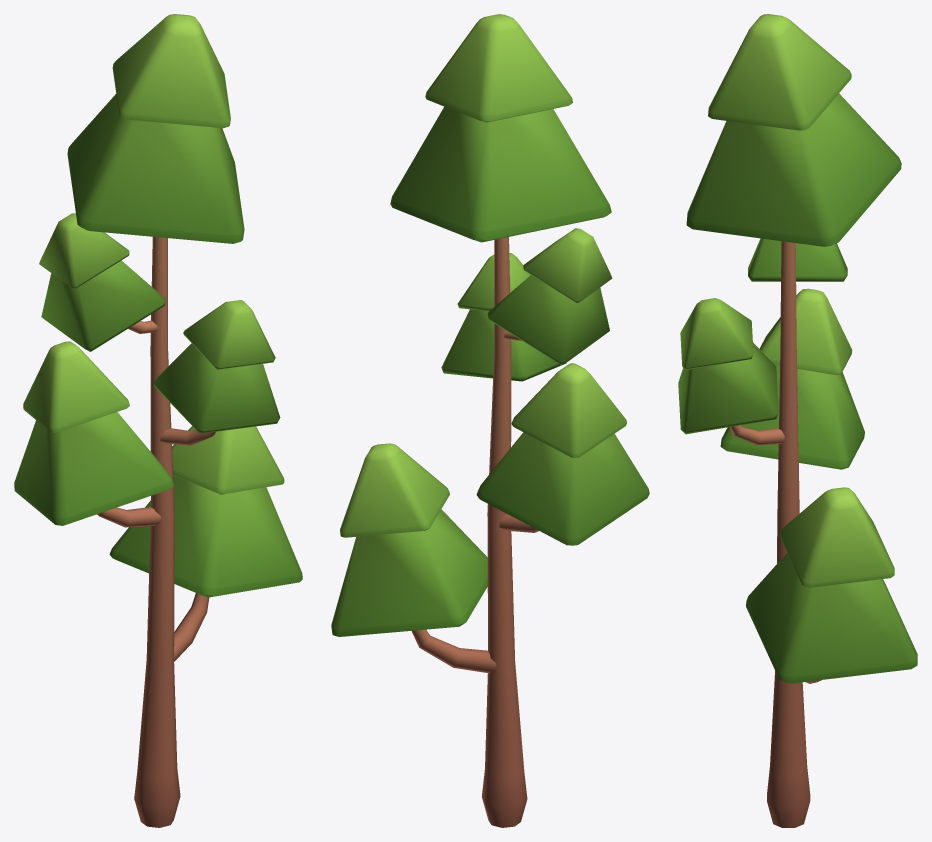
The model's file is Tree_4_C_Color3.fbx.
The picture shows the model from 3 angles, left to right: view 1: azimuth 30°, elevation 25°; view 2: azimuth 150°, elevation 25°; view 3: azimuth 270°, elevation 25°; orthographic projection. The views are drawn at different scales.
Parts seen in each view (by area): view 1: Tree_4_C_Color3; view 2: Tree_4_C_Color3; view 3: Tree_4_C_Color3.
Part boxes in pixels (x1,y1,x2,y2): Tree_4_C_Color3: [14, 14, 302, 827]; Tree_4_C_Color3: [331, 14, 649, 827]; Tree_4_C_Color3: [678, 14, 917, 827].
Size of the model in its own units: 3.74 by 10.77 by 2.87.
